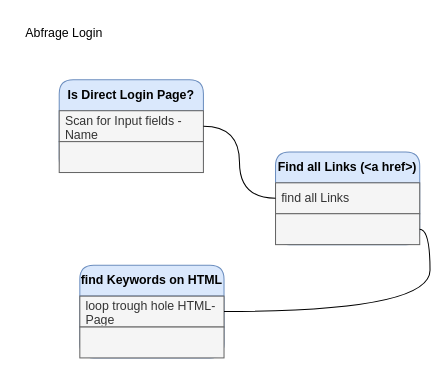
Some shapes in this 448 by 376 pixel diagram are drawn without their labels. The centre of each missing label's shape, as x and y in pixels:
"Loop trough Links find keywords" belongs at [347,229].
"Scan for Key words" belongs at [151,342].
"Scan for Key words - Password/Username" belongs at [130,157].
